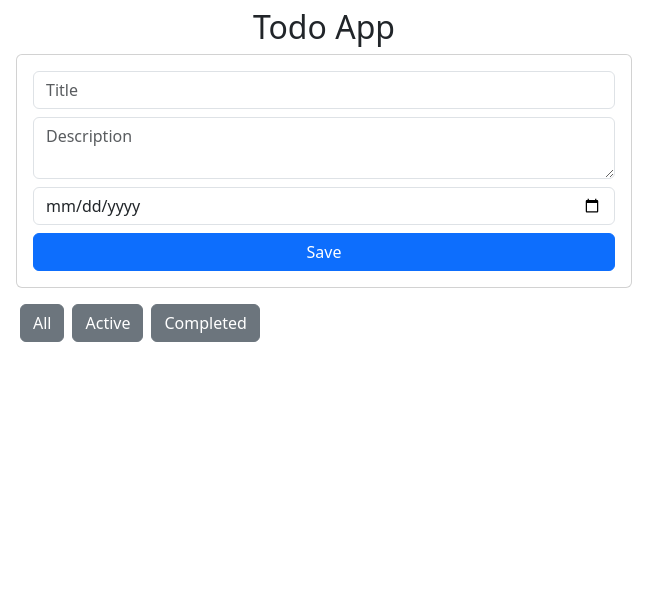
Test: TodoList Component › filters active and completed todos
This screenshot has width=649, height=602.
In the field with placeholder "Title": [324, 90] box [33,71,615,109], type "Active Todo"
Click the button "Save": [324, 252] box [33,233,615,271]
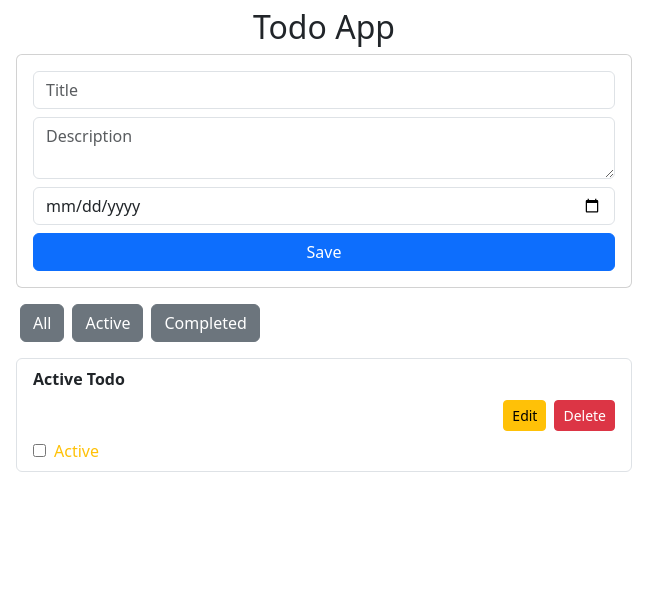
In the field with placeholder "Title": [324, 90] box [33,71,615,109], type "Completed Todo"
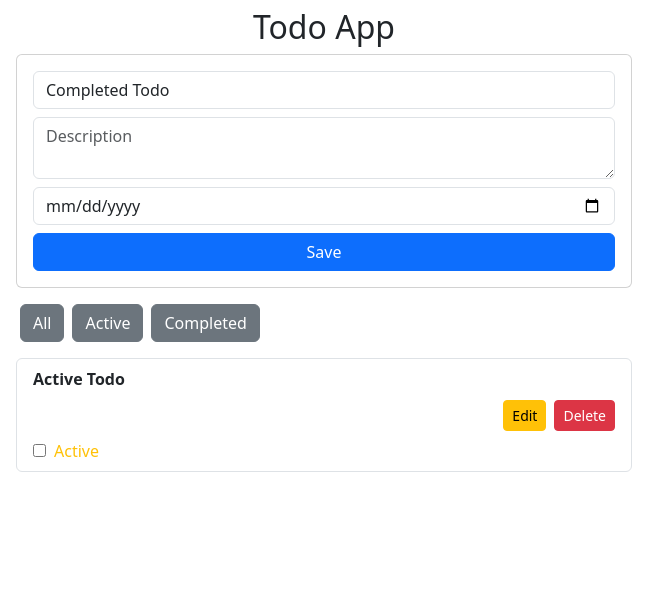
Click the button "Save": [324, 252] box [33,233,615,271]
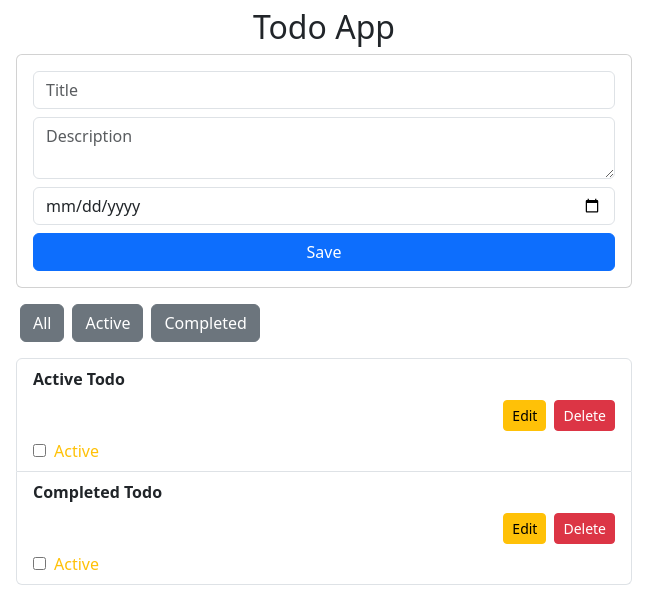
Click the checkbox below "Completed Todo": [40, 564] box [33,557,46,570]
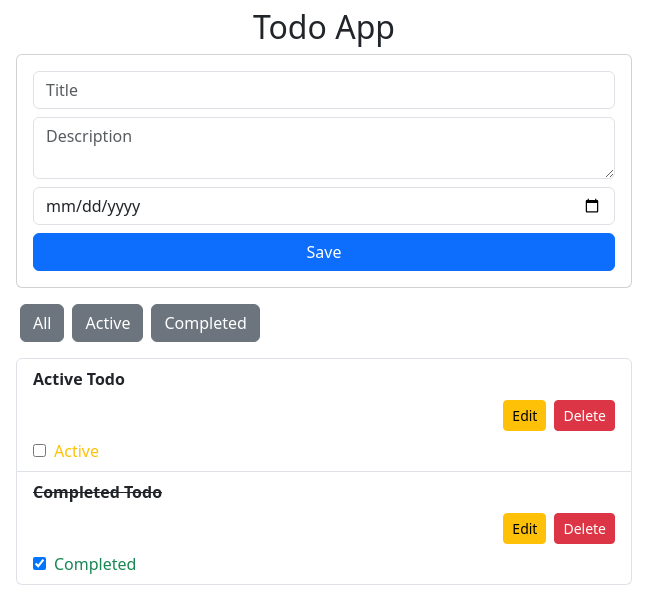
Click the button "Active": [108, 323] box [72,304,144,342]
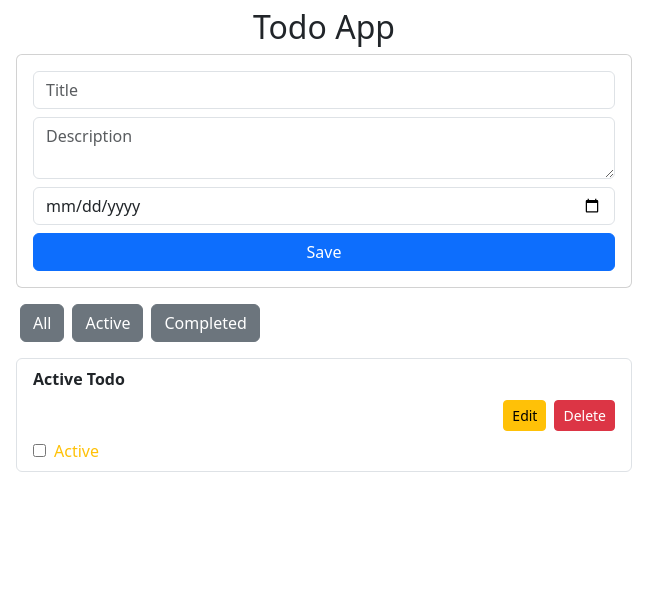
Expected: the text "Active Todo" is shown, [33,368,125,390]
Click the button "Completed": [206, 323] box [152,304,260,342]
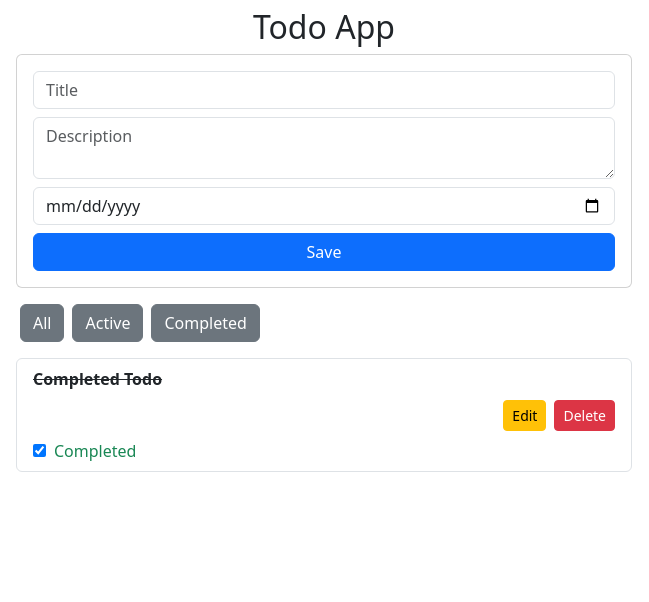
Expected: the text "Completed Todo" is shown, [33,368,162,390]
Expected: the text "Active Todo" is gone
